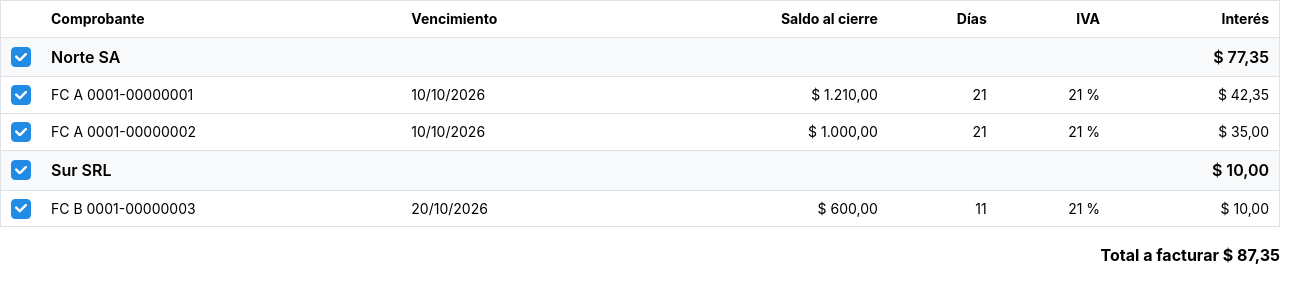
Test: intereses (web) › total seleccionado y destildar un cliente
This screenshot has width=1292, height=282.
Expected: the text with test id "total-intereses" reads "Total a facturar $ 87,35", left=1101, top=245, right=1280, bottom=265
Click the checkbox named "Cliente Norte SA": click(21, 57) left=11, top=47, right=31, bottom=67
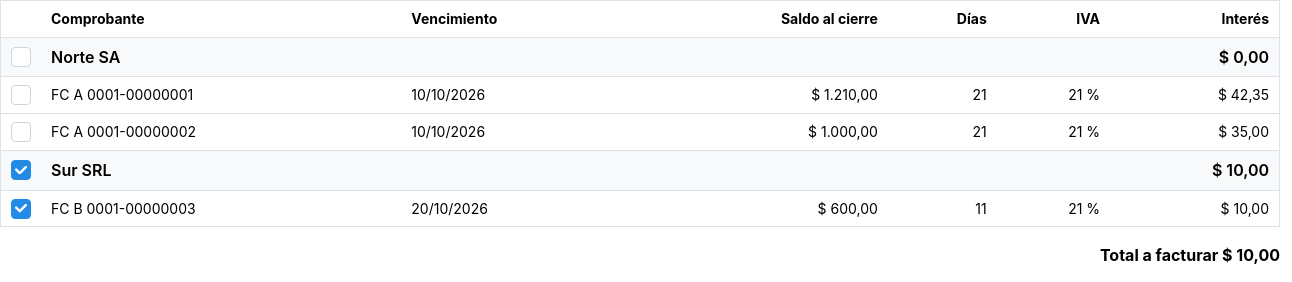
Now the text with test id "total-intereses" reads "Total a facturar $ 10,00", box left=1100, top=245, right=1280, bottom=265
Click the checkbox named "Factura FC B 0001-00000003": click(21, 208) left=11, top=198, right=31, bottom=218
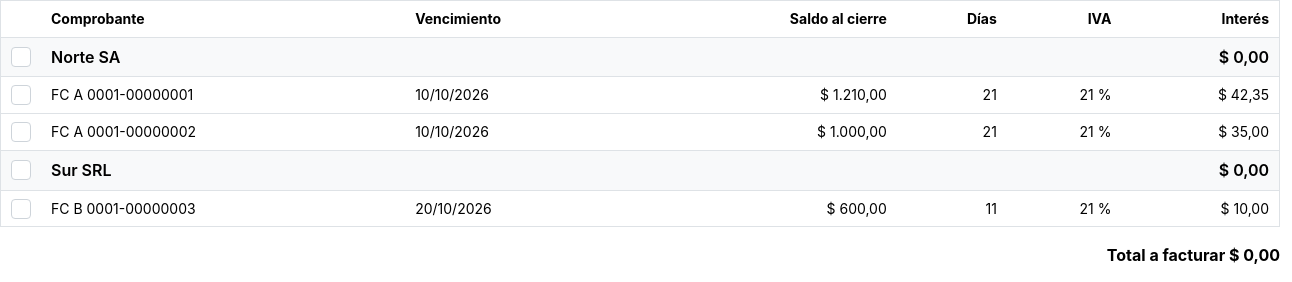
Now the text with test id "total-intereses" reads "Total a facturar $ 0,00", box left=1107, top=245, right=1280, bottom=265
